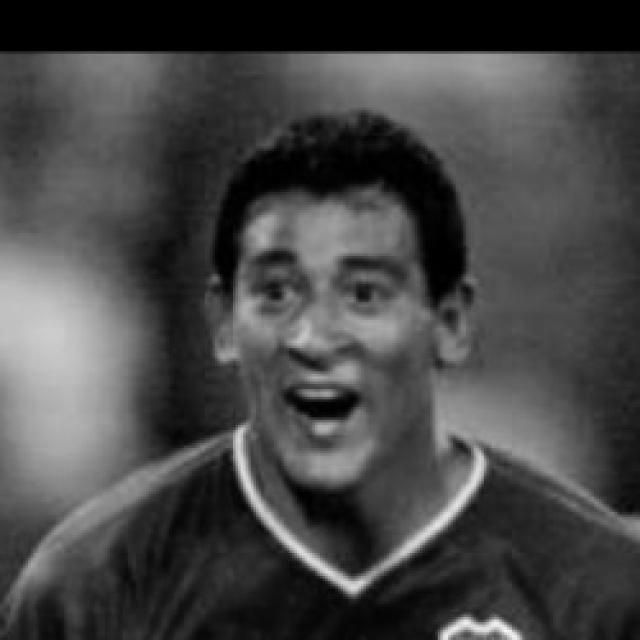real: (232, 188, 430, 490), (236, 265, 406, 325)
